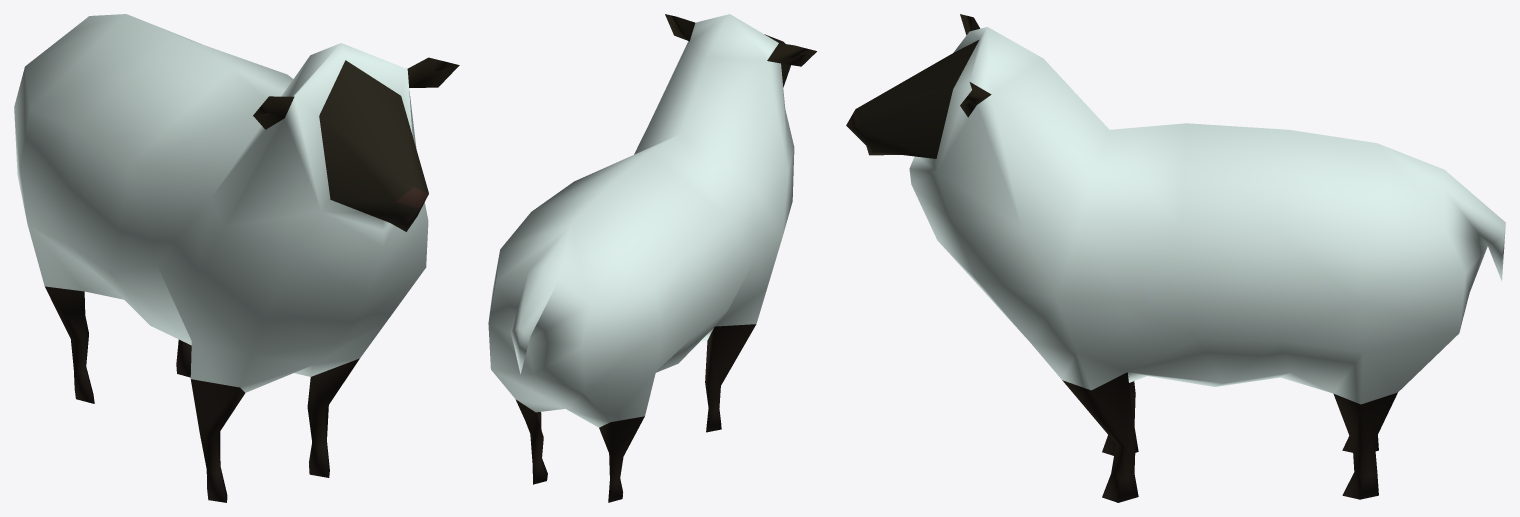
3 views of the same model, side by side, from view 1: azimuth 30°, elevation 25°; view 2: azimuth 150°, elevation 25°; view 3: azimuth 270°, elevation 25° (orthographic). The views are drawn at different scales.
Visible parts, largest first — view 1: Sheep-ver2_Texture-base_0; view 2: Sheep-ver2_Texture-base_0; view 3: Sheep-ver2_Texture-base_0.
Part boxes in pixels (<box>): Sheep-ver2_Texture-base_0: <box>14,14,459,502</box>; Sheep-ver2_Texture-base_0: <box>488,14,816,502</box>; Sheep-ver2_Texture-base_0: <box>846,14,1505,502</box>.
Bounding box in the file's own units: 0.4199 × 0.8672 × 1.15.
Materials: 1 (1 with a texture image).
